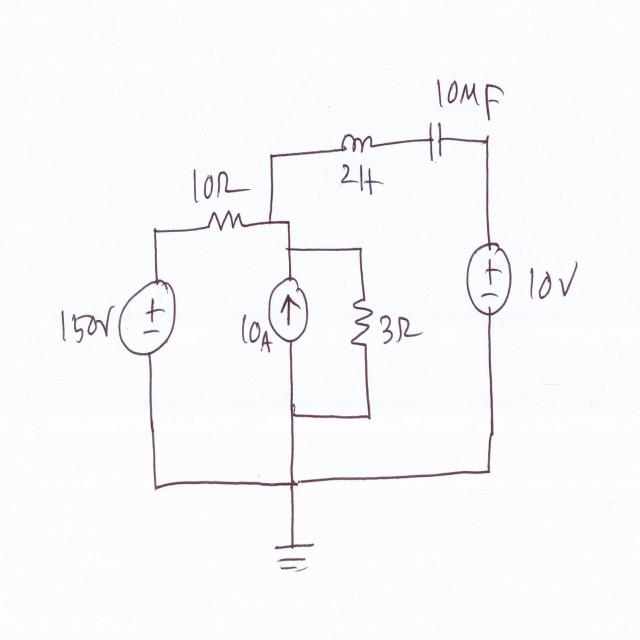capacitor: (420, 114, 452, 167)
current_source: (262, 271, 312, 347)
ground: (270, 536, 324, 576)
inductor: (334, 126, 380, 162)
resistor: (347, 288, 379, 354), (203, 203, 254, 237)
voltage_source: (113, 271, 180, 357), (461, 234, 514, 319)
